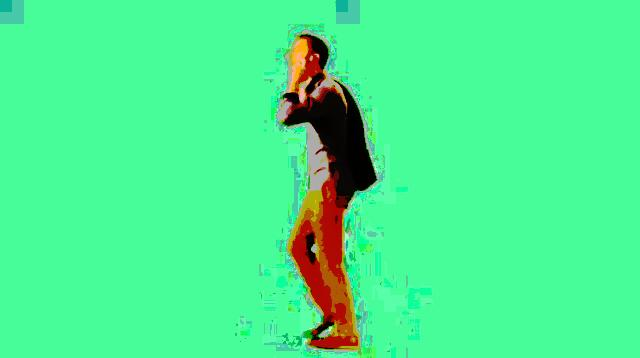berjalan: (278, 32, 378, 352)
